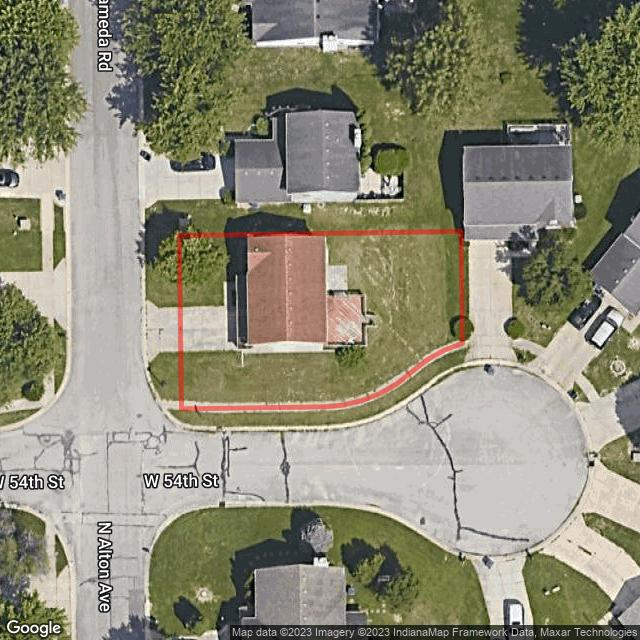Driveway: (184, 305, 246, 351)
Extra Driveway: (147, 301, 178, 361)
Extra Lawn: (170, 349, 466, 427), (145, 234, 177, 306), (149, 352, 178, 399)
House: (245, 236, 367, 356)
Other: (223, 273, 247, 306), (326, 265, 348, 291), (366, 315, 378, 327)
